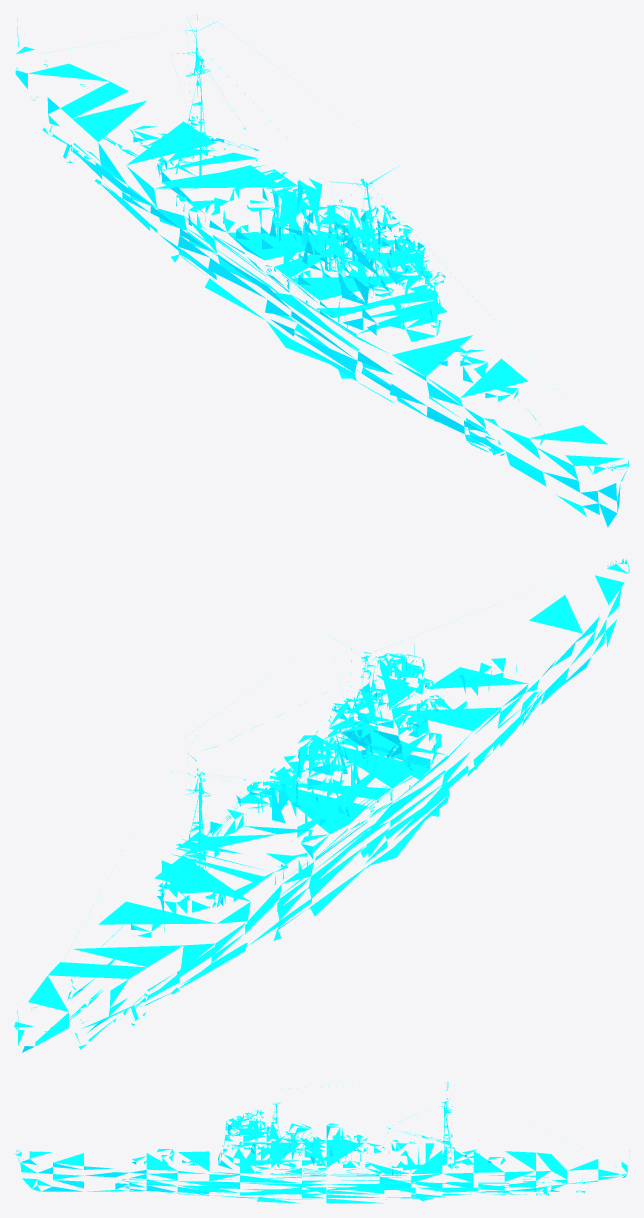
Rendered from ARP_Takao.glb.
3 views of the same model, one above another, from view 1: azimuth 30°, elevation 25°; view 2: azimuth 150°, elevation 25°; view 3: azimuth 270°, elevation 25° (orthographic). The views are drawn at different scales.
Bounding box in the file's own units: 1.53 × 2.69 × 13.61.
